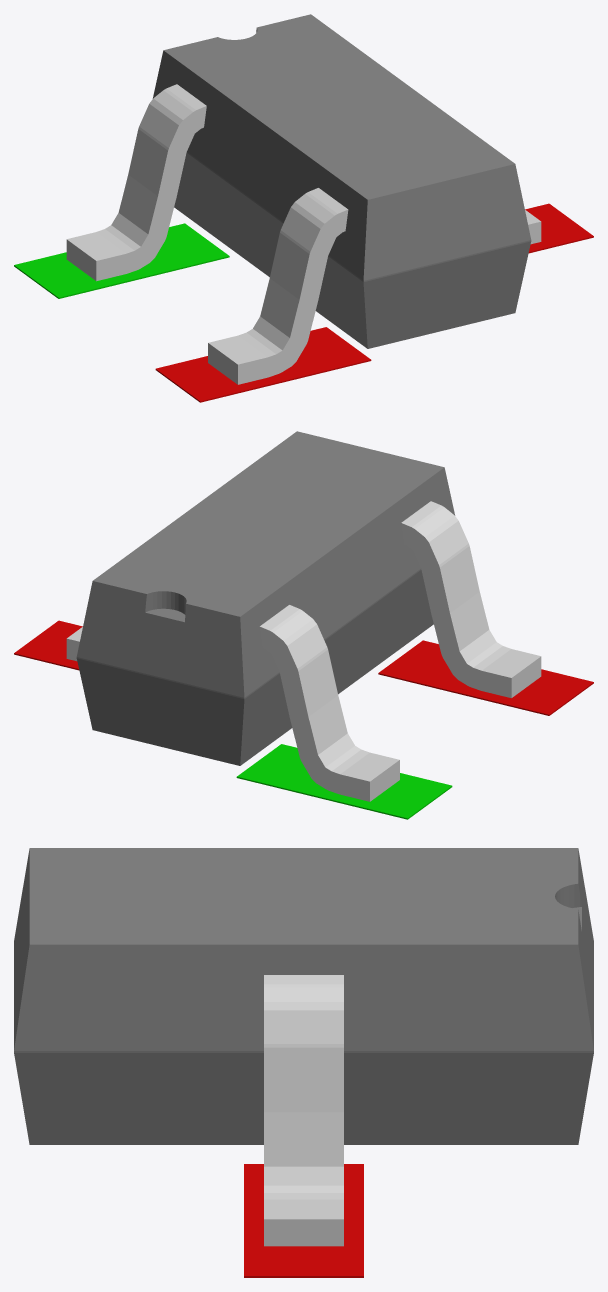
3 renders of one model, top to bottom at view 1: azimuth 30°, elevation 25°; view 2: azimuth 150°, elevation 25°; view 3: azimuth 270°, elevation 25°, orthographic. The views are drawn at different scales.
Visible parts, largest first — view 1: JSCADMesh_3, JSCADMesh_0, JSCADMesh_1, JSCADMesh_4, JSCADMesh_5, JSCADMesh_6; view 2: JSCADMesh_3, JSCADMesh_1, JSCADMesh_0, JSCADMesh_5, JSCADMesh_4, JSCADMesh_6; view 3: JSCADMesh_3, JSCADMesh_2, JSCADMesh_6.
Part boxes in pixels (x1,y1,x2,y2): JSCADMesh_3: [152, 14, 531, 348]; JSCADMesh_0: [66, 84, 206, 281]; JSCADMesh_1: [208, 188, 348, 384]; JSCADMesh_4: [14, 223, 229, 298]; JSCADMesh_5: [155, 327, 371, 402]; JSCADMesh_6: [525, 203, 593, 253]; JSCADMesh_3: [76, 431, 455, 765]; JSCADMesh_1: [401, 501, 541, 698]; JSCADMesh_0: [259, 605, 399, 801]; JSCADMesh_5: [378, 640, 593, 715]; JSCADMesh_4: [236, 744, 452, 819]; JSCADMesh_6: [14, 620, 82, 670]; JSCADMesh_3: [14, 848, 593, 1144]; JSCADMesh_2: [264, 975, 343, 1246]; JSCADMesh_6: [244, 1164, 363, 1277].
Size of the model in its own units: 3.6 by 1.26 by 2.9.
